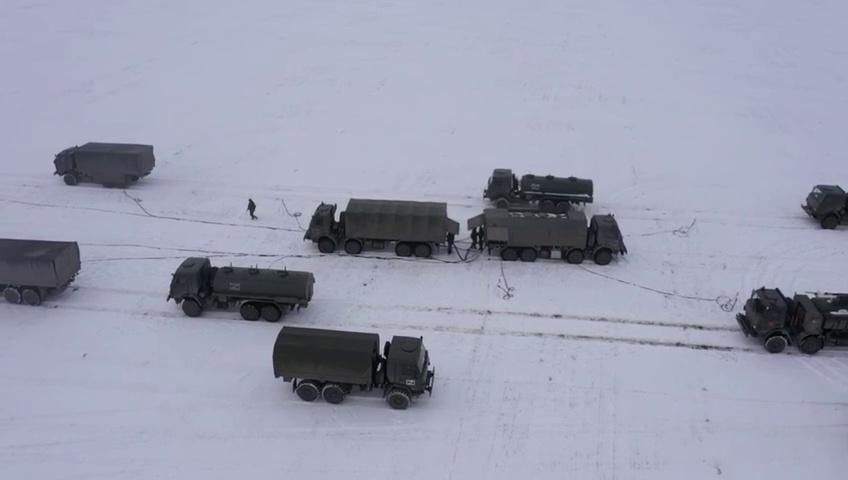person: (246, 198, 258, 221)
truck: (272, 325, 436, 410), (167, 256, 316, 322), (302, 198, 460, 257), (468, 207, 628, 265), (736, 287, 848, 355), (0, 236, 80, 314), (482, 167, 595, 210), (53, 142, 156, 189), (801, 184, 848, 230)
